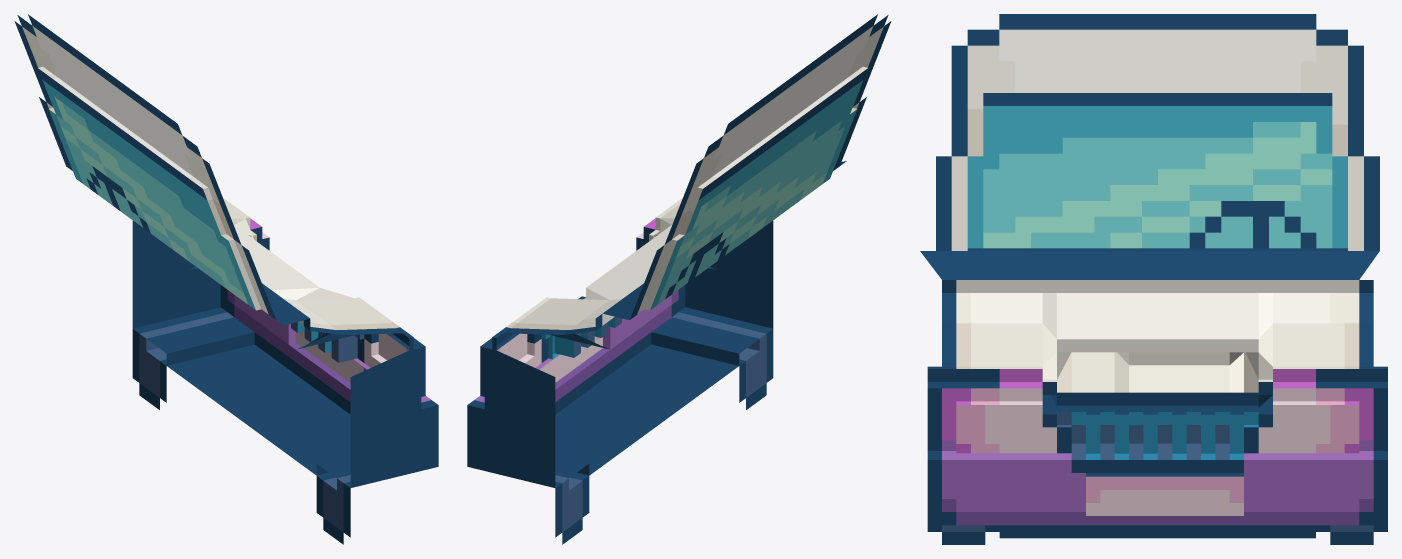
Rendered from extrude_export1.fbx.
3 views of the same model, side by side, from view 1: azimuth 30°, elevation 25°; view 2: azimuth 150°, elevation 25°; view 3: azimuth 270°, elevation 25° (orthographic). The views are drawn at different scales.
Parts seen in each view (by area): view 1: camioneta_front.png; view 2: camioneta_front.png; view 3: camioneta_front.png.
Part boxes in pixels (<box>): camioneta_front.png: <box>14,14,438,544</box>; camioneta_front.png: <box>467,14,891,544</box>; camioneta_front.png: <box>920,14,1387,544</box>.
Bounding box in the file's own units: 993 × 1764 × 1628.
